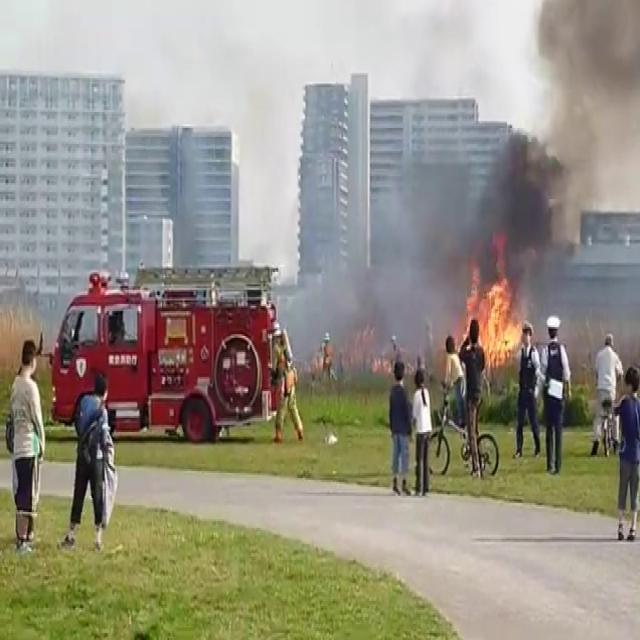Fire: (462, 270, 528, 364)
Smoke: (301, 0, 640, 343)
